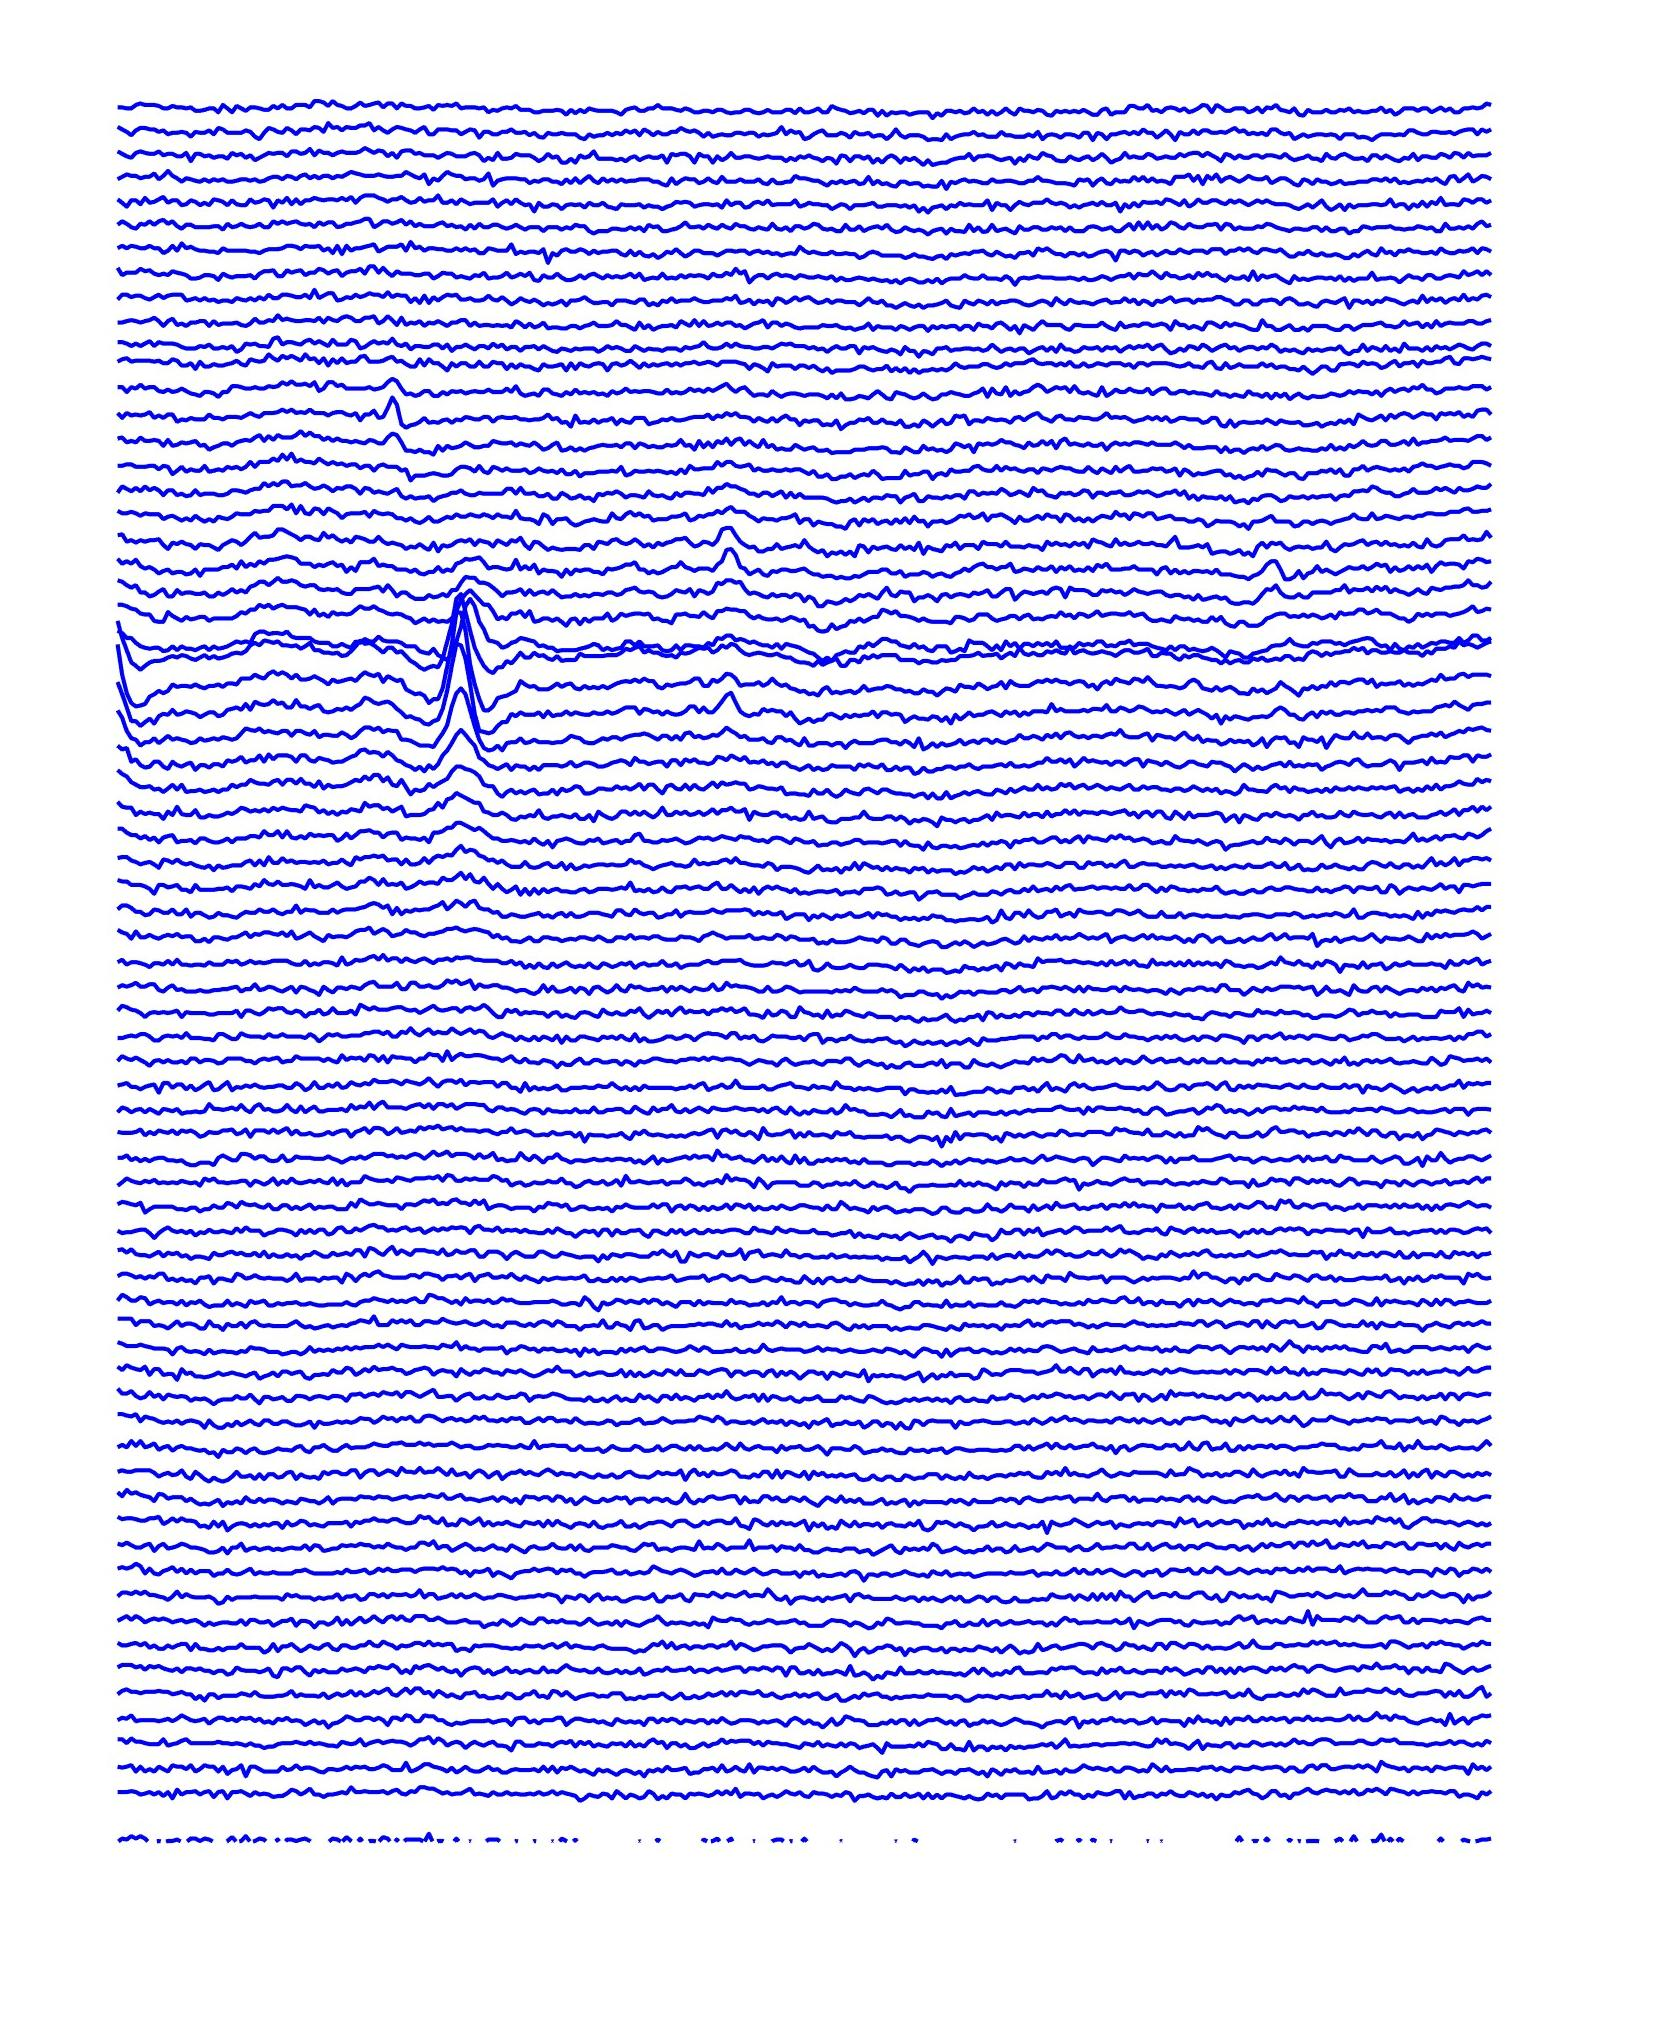defect: (424, 559, 498, 777), (700, 494, 763, 595), (359, 357, 419, 460)
